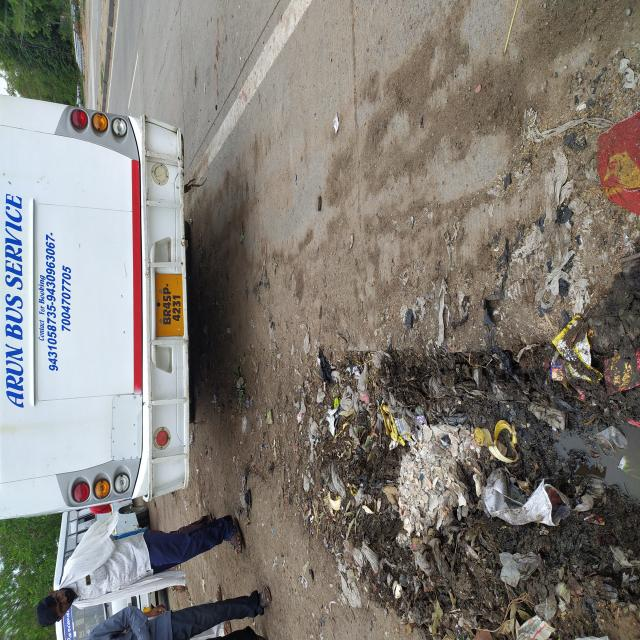Bus: (91, 0, 432, 290)
